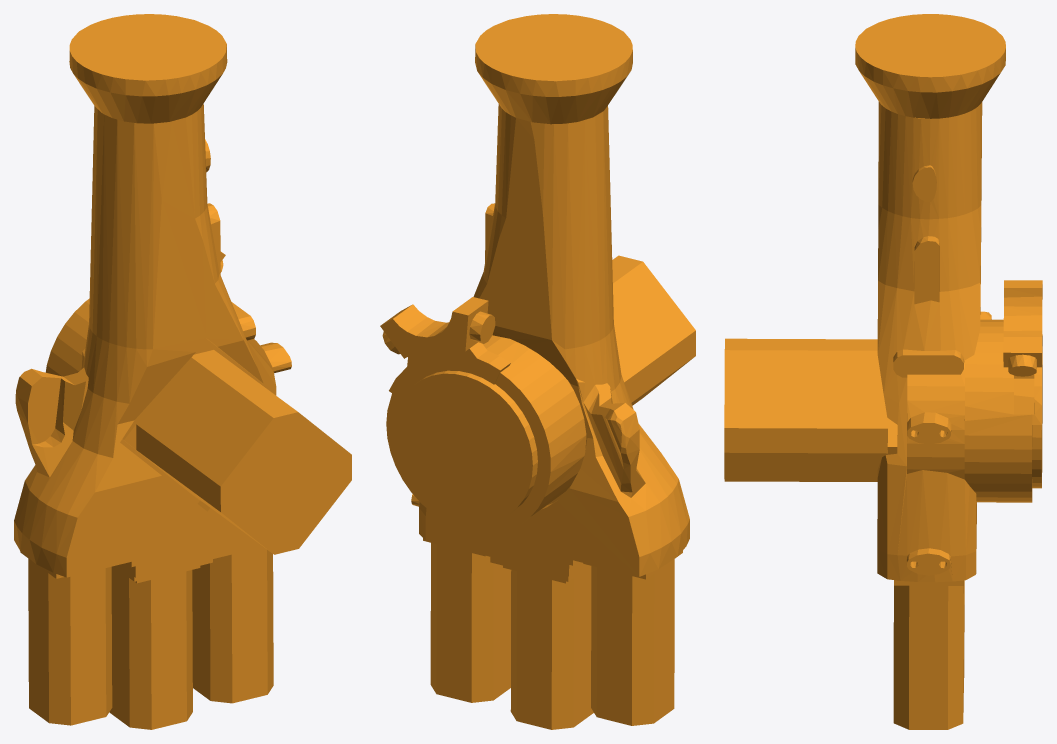
File: KukaK6R900Link3.dae
3 views of the same model, side by side, from view 1: azimuth 30°, elevation 25°; view 2: azimuth 150°, elevation 25°; view 3: azimuth 270°, elevation 25° (orthographic). The views are drawn at different scales.
Parts seen in each view (by area): view 1: KUKA_K6Link3; view 2: KUKA_K6Link3; view 3: KUKA_K6Link3.
Part boxes in pixels (box(x1,y1,x2,y2)): KUKA_K6Link3: box(14, 14, 351, 729); KUKA_K6Link3: box(380, 14, 695, 729); KUKA_K6Link3: box(724, 14, 1042, 729).
Bounding box in the file's own units: 0.1439 × 0.1655 × 0.366.
